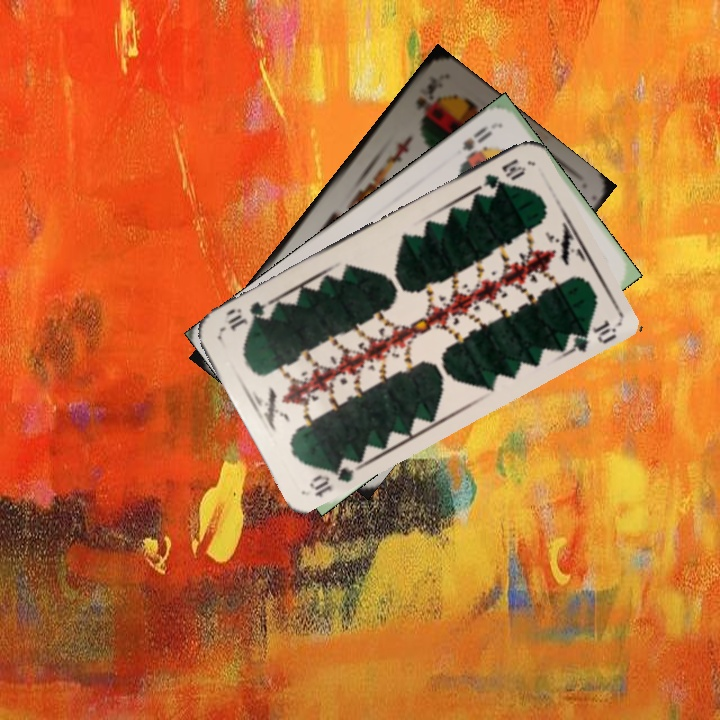G10: (305, 454, 362, 500), (471, 154, 529, 199)
SK: (411, 79, 437, 115)
SO: (455, 121, 496, 168)
